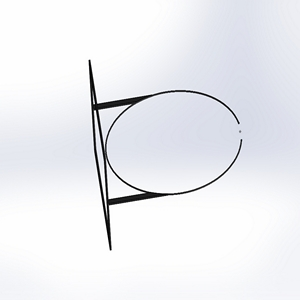circle: (87, 59, 243, 250)
